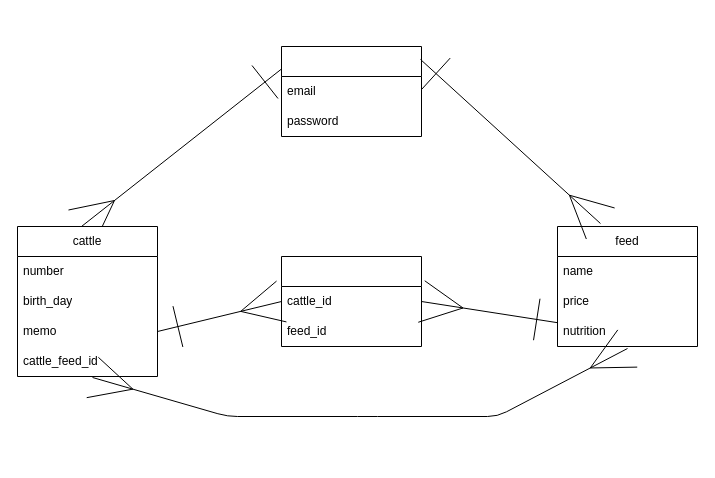
The diagram is 715 pixels wide and 478 high, and some of its shapes have lost their labels. Each missing label, with the box of its shape:
cattle_feed: (280, 256, 422, 346)
User: (280, 46, 422, 136)
